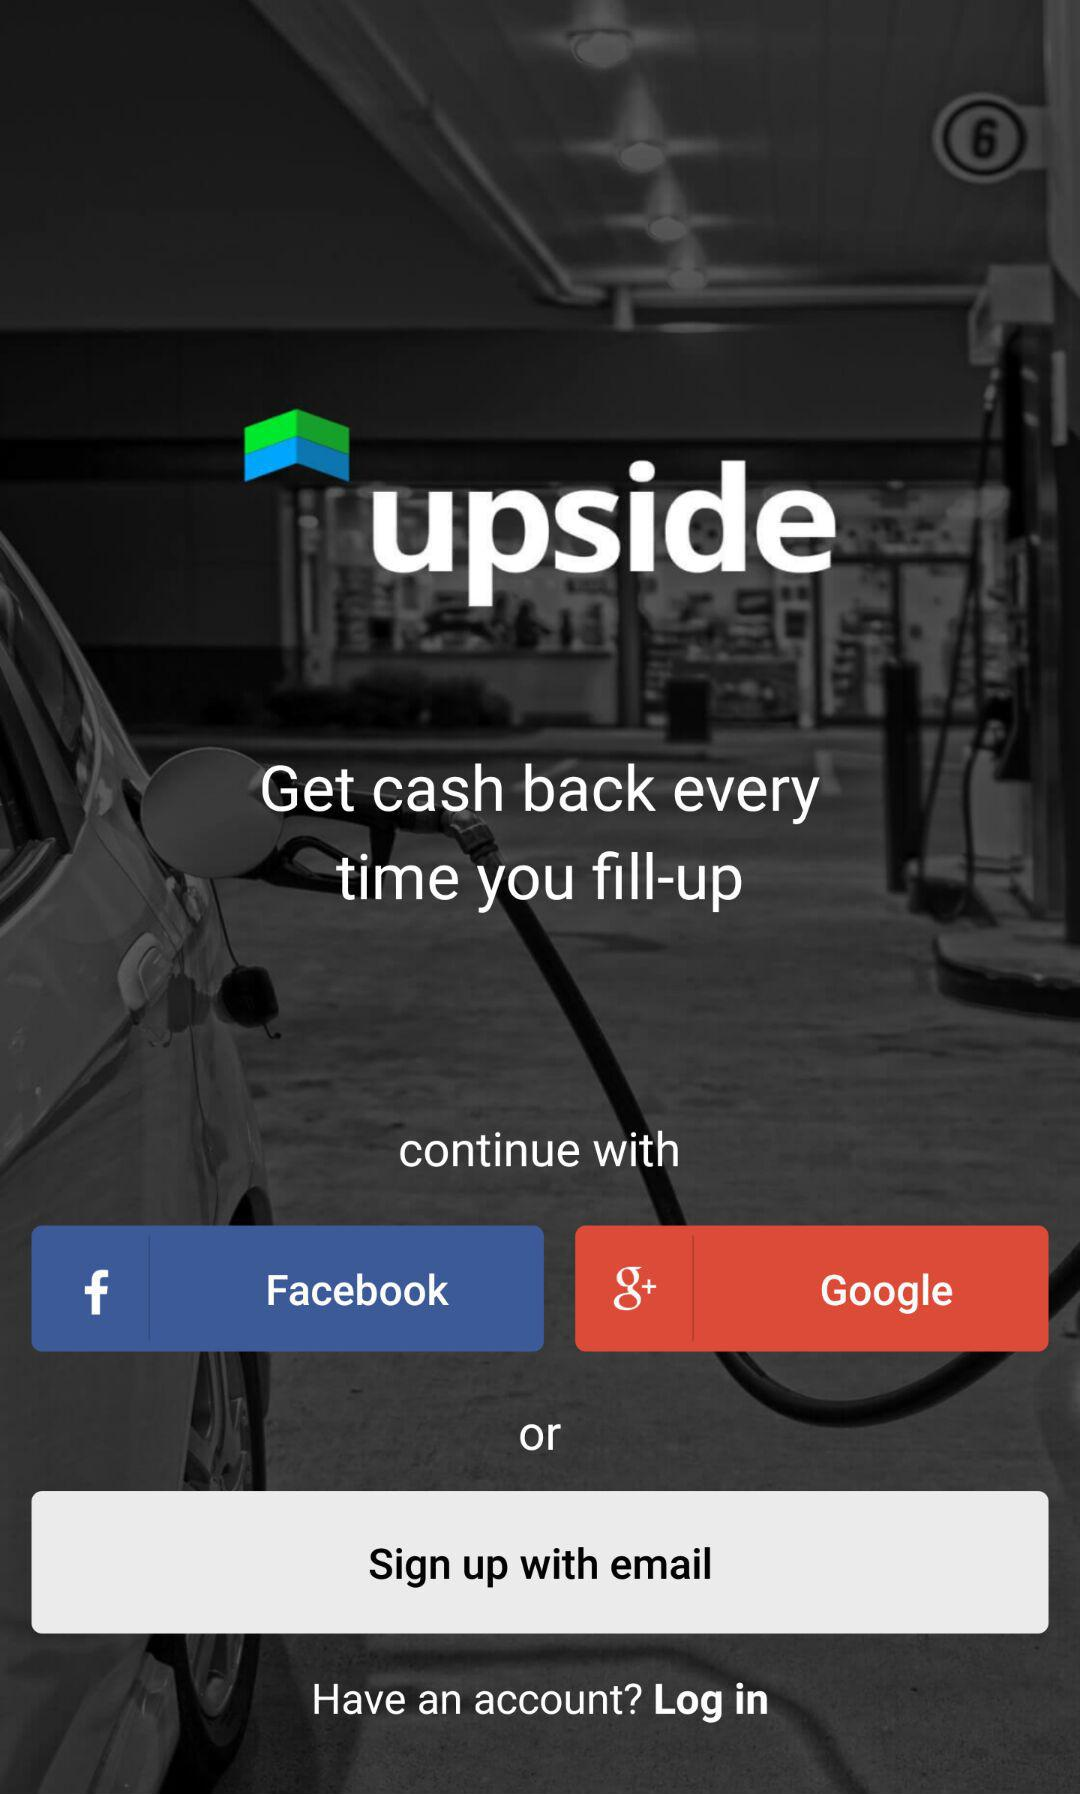BackgroundImage: (1, 3, 1080, 1794)
Image: (243, 407, 352, 484)
Text: (261, 762, 822, 916), (372, 460, 838, 610), (313, 1683, 769, 1724), (398, 1129, 680, 1171), (518, 1419, 566, 1454)
TextButton: (32, 1492, 1049, 1634), (32, 1225, 544, 1353), (574, 1225, 1049, 1353)
